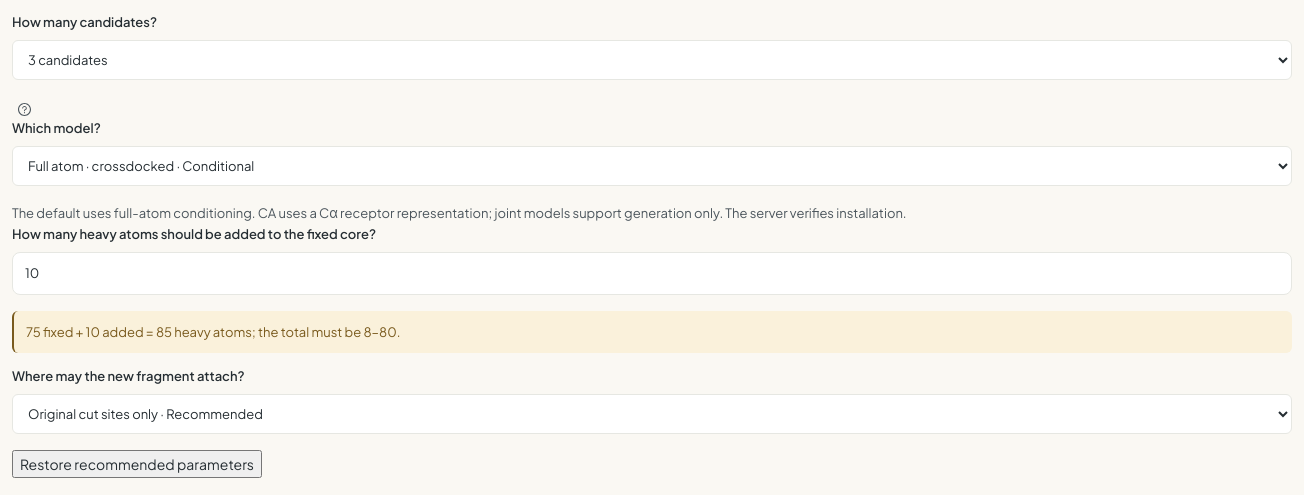
Test case: makes the true local-design budget editable without expert JSON in en
Expected: the message shows "85", [26,324,400,340]
Replace the text in the number field labelled "How many heavy atoms should be added to the fixed core?" with "5" at coordinates (652, 273), box [12,252,1292,295]
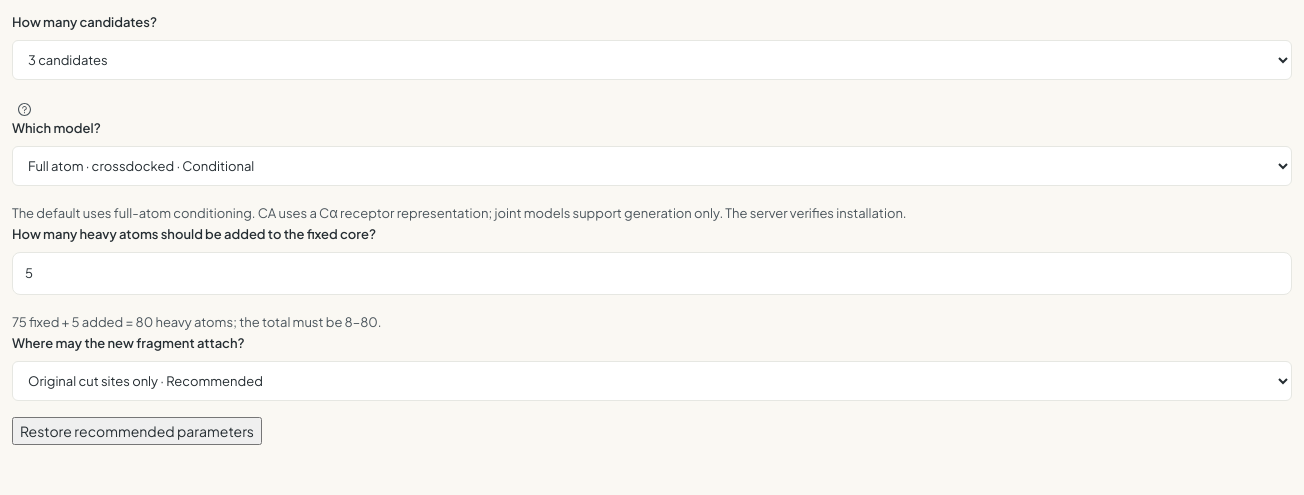
Now the text "75 fixed + 5 added = 80 heavy atoms; the total must be 8–80." is shown, box [12,314,382,330]
